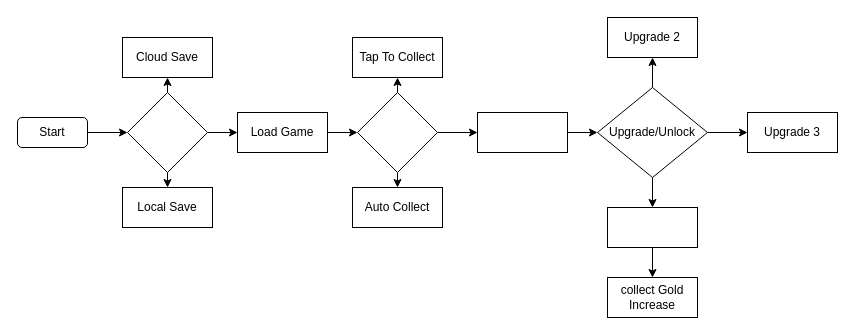
Some shapes in this 855 by 335 pixel diagram are drawn without their labels. The box of each missing label's shape, as (x1, y1, x2, y2) in pixels:
Collect Gold: (476, 112, 568, 152)
Game Play: (356, 92, 438, 172)
Play: (126, 92, 208, 172)
Upgrade 1: (606, 206, 698, 248)
